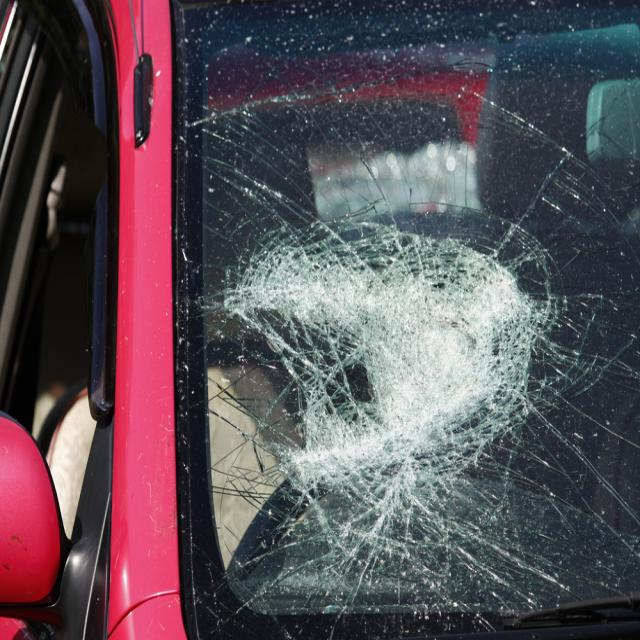glass shatter: (174, 0, 640, 640)
